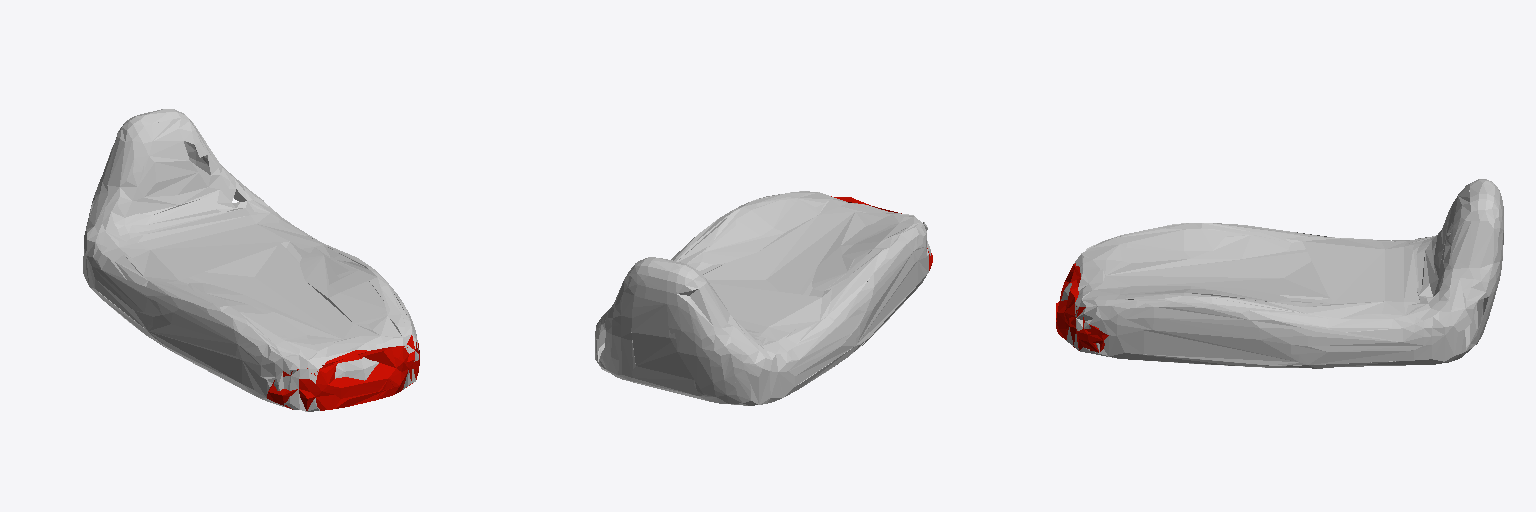
File: Nao6_Left_Leg_Foot.obj
3 views of the same model, side by side, from view 1: azimuth 30°, elevation 25°; view 2: azimuth 150°, elevation 25°; view 3: azimuth 270°, elevation 25° (orthographic).
Visible parts, largest first — view 1: Nao6_Left_Leg_Foot; view 2: Nao6_Left_Leg_Foot; view 3: Nao6_Left_Leg_Foot.
Boxes of the visible parts, <box> form: Nao6_Left_Leg_Foot: <box>83,109,419,411</box>; Nao6_Left_Leg_Foot: <box>595,191,932,405</box>; Nao6_Left_Leg_Foot: <box>1056,179,1503,368</box>.
Size of the model in its own units: 0.4639 by 0.3124 by 0.9215.